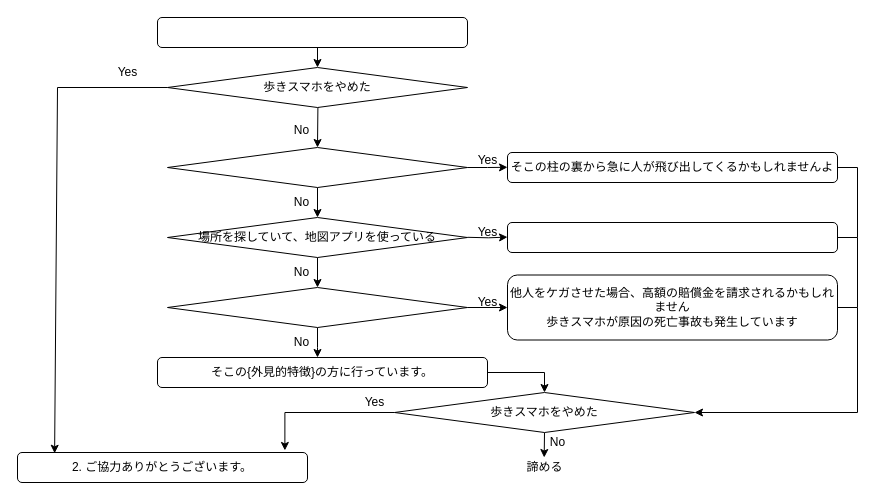
Some shapes in this 883 by 500 pixel diagram are drawn without their labels. The shapes that lost their labels are listed below. From the top down, each one's centre as x and y in pixels, then its label:
At (x=312, y=32): "1. 歩きスマホは危険ですので、おやめください".
At (x=317, y=167): "周りに人がいない場合".
At (x=672, y=237): "道案内なら私がしますよ。".
At (x=317, y=307): "移動速度が速い".
